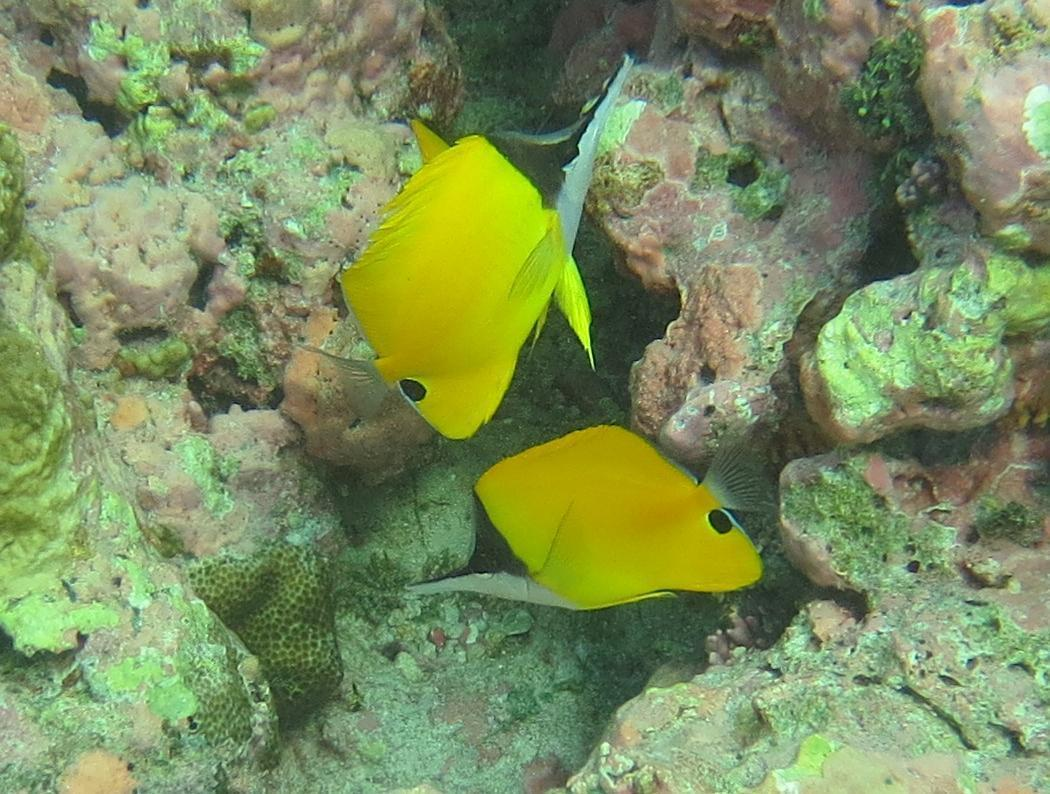Fish: (305, 42, 639, 440), (406, 424, 778, 618)
